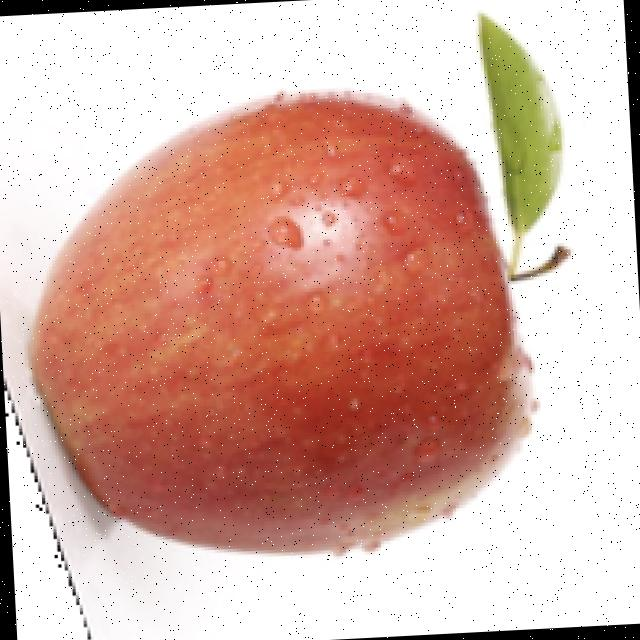apple: (5, 84, 565, 611)
